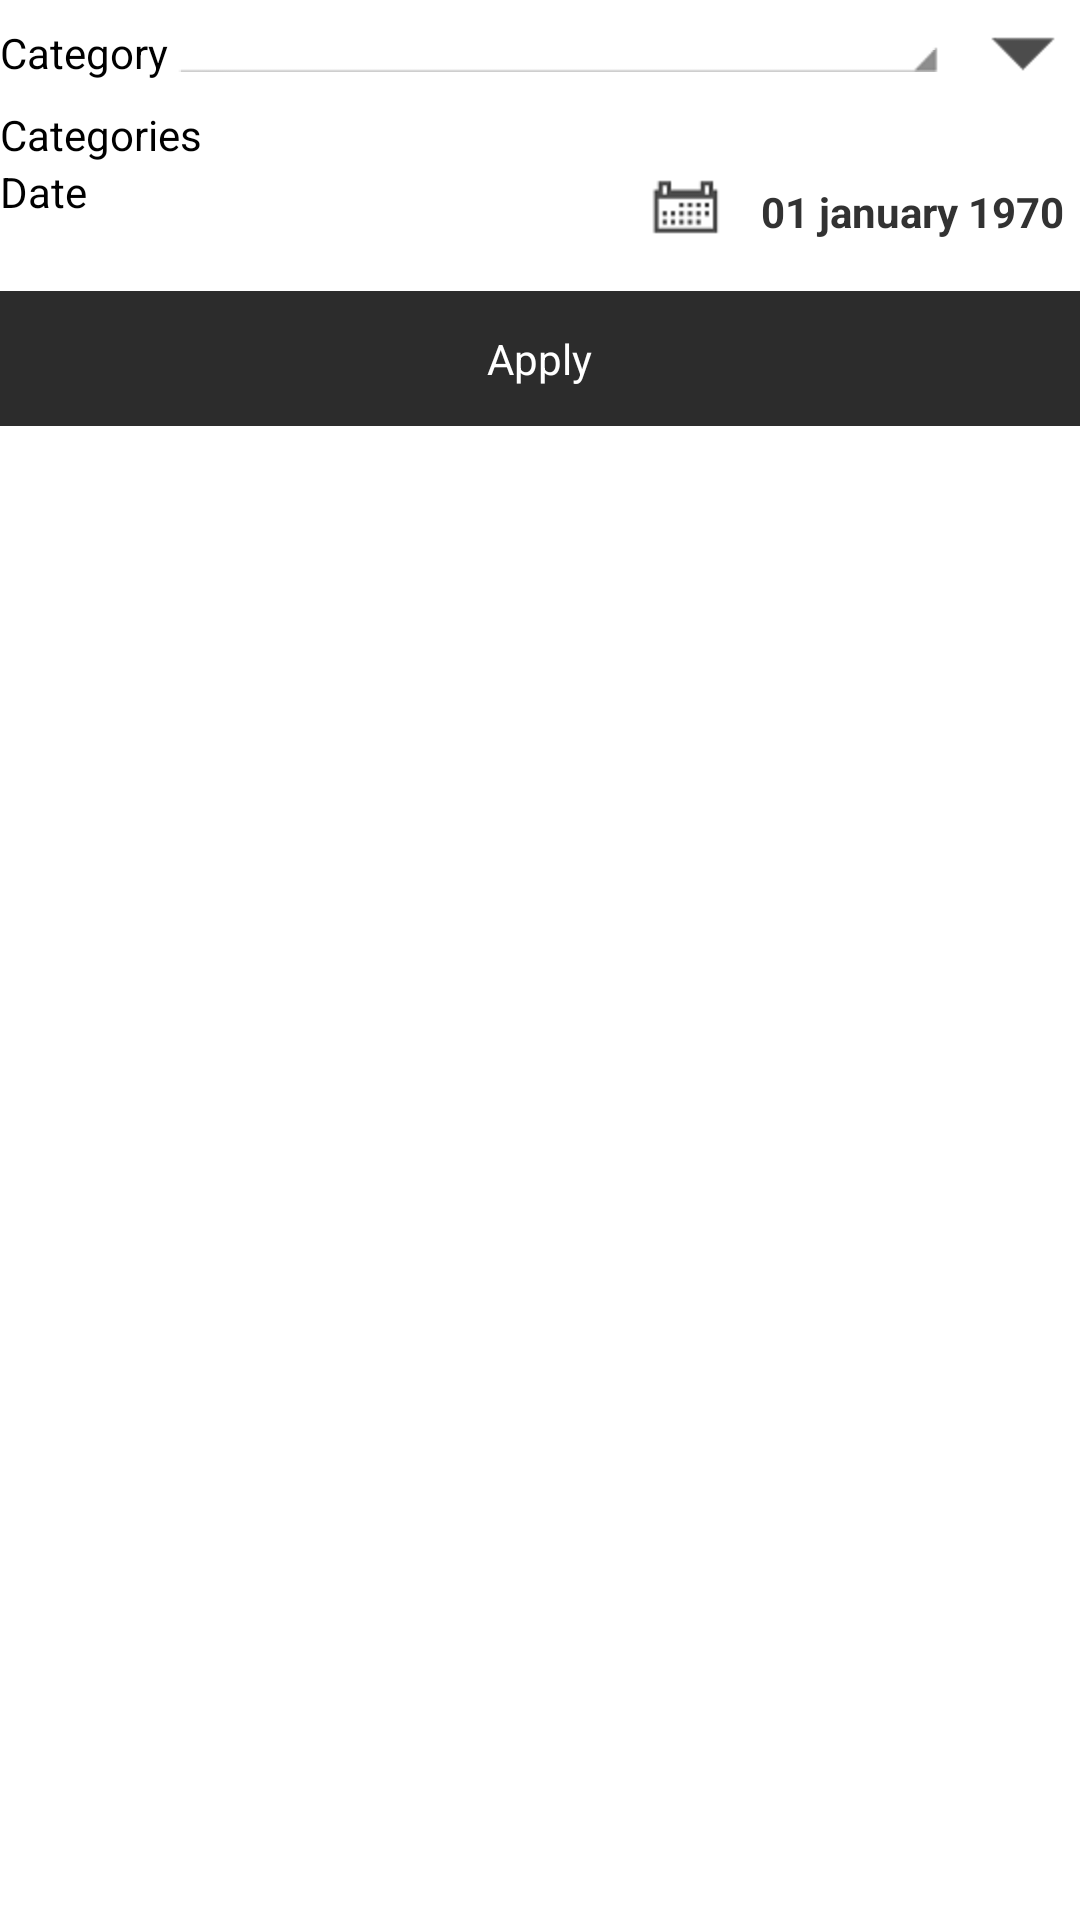

Icon click points for this 1080x1920 phone screenshot, format [x,y]:
triangle: [1023,54]
